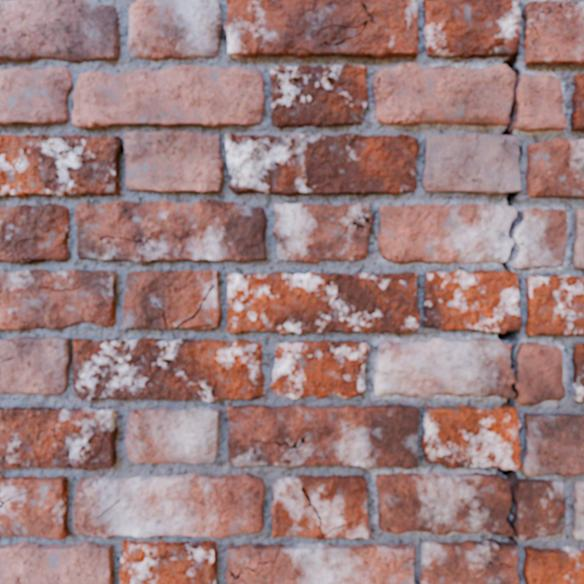brick: (74, 473, 264, 537), (227, 405, 418, 468), (73, 339, 264, 401), (75, 200, 265, 262), (227, 272, 419, 333), (73, 66, 264, 127), (228, 134, 418, 195), (225, 0, 417, 58), (422, 406, 583, 475), (0, 134, 121, 196), (226, 544, 414, 583), (0, 0, 119, 61), (0, 407, 116, 469), (0, 270, 115, 329), (272, 475, 369, 538), (270, 65, 367, 127), (422, 271, 521, 331), (124, 131, 222, 191), (273, 203, 372, 262), (422, 134, 520, 193), (128, 0, 222, 59), (271, 341, 368, 398), (424, 0, 520, 57), (124, 271, 220, 327), (126, 407, 219, 463), (0, 542, 112, 583), (0, 475, 68, 539), (419, 539, 517, 583), (119, 540, 216, 583), (0, 68, 71, 125), (0, 337, 70, 394), (0, 204, 69, 261), (523, 2, 583, 65), (526, 275, 583, 335), (526, 139, 583, 197), (524, 547, 583, 583), (523, 2, 558, 24), (571, 74, 583, 130), (572, 210, 583, 268), (573, 482, 583, 539), (573, 344, 583, 400), (226, 135, 231, 146)
broken_brick: (371, 62, 514, 126), (373, 336, 513, 399), (375, 472, 512, 536), (376, 203, 514, 264), (512, 207, 568, 269), (516, 478, 566, 541), (516, 341, 565, 405), (514, 73, 567, 132)
crack: (301, 487, 351, 539), (525, 0, 581, 45), (497, 328, 523, 408), (495, 467, 521, 547), (498, 49, 521, 136), (501, 190, 525, 273), (175, 283, 215, 329), (230, 549, 280, 583), (50, 428, 90, 469), (250, 135, 281, 169), (337, 213, 372, 241), (0, 489, 33, 508), (154, 302, 167, 328), (486, 559, 518, 568), (226, 134, 236, 153), (518, 146, 523, 158), (21, 257, 35, 261), (517, 573, 521, 583), (517, 427, 520, 436), (517, 279, 520, 286)
